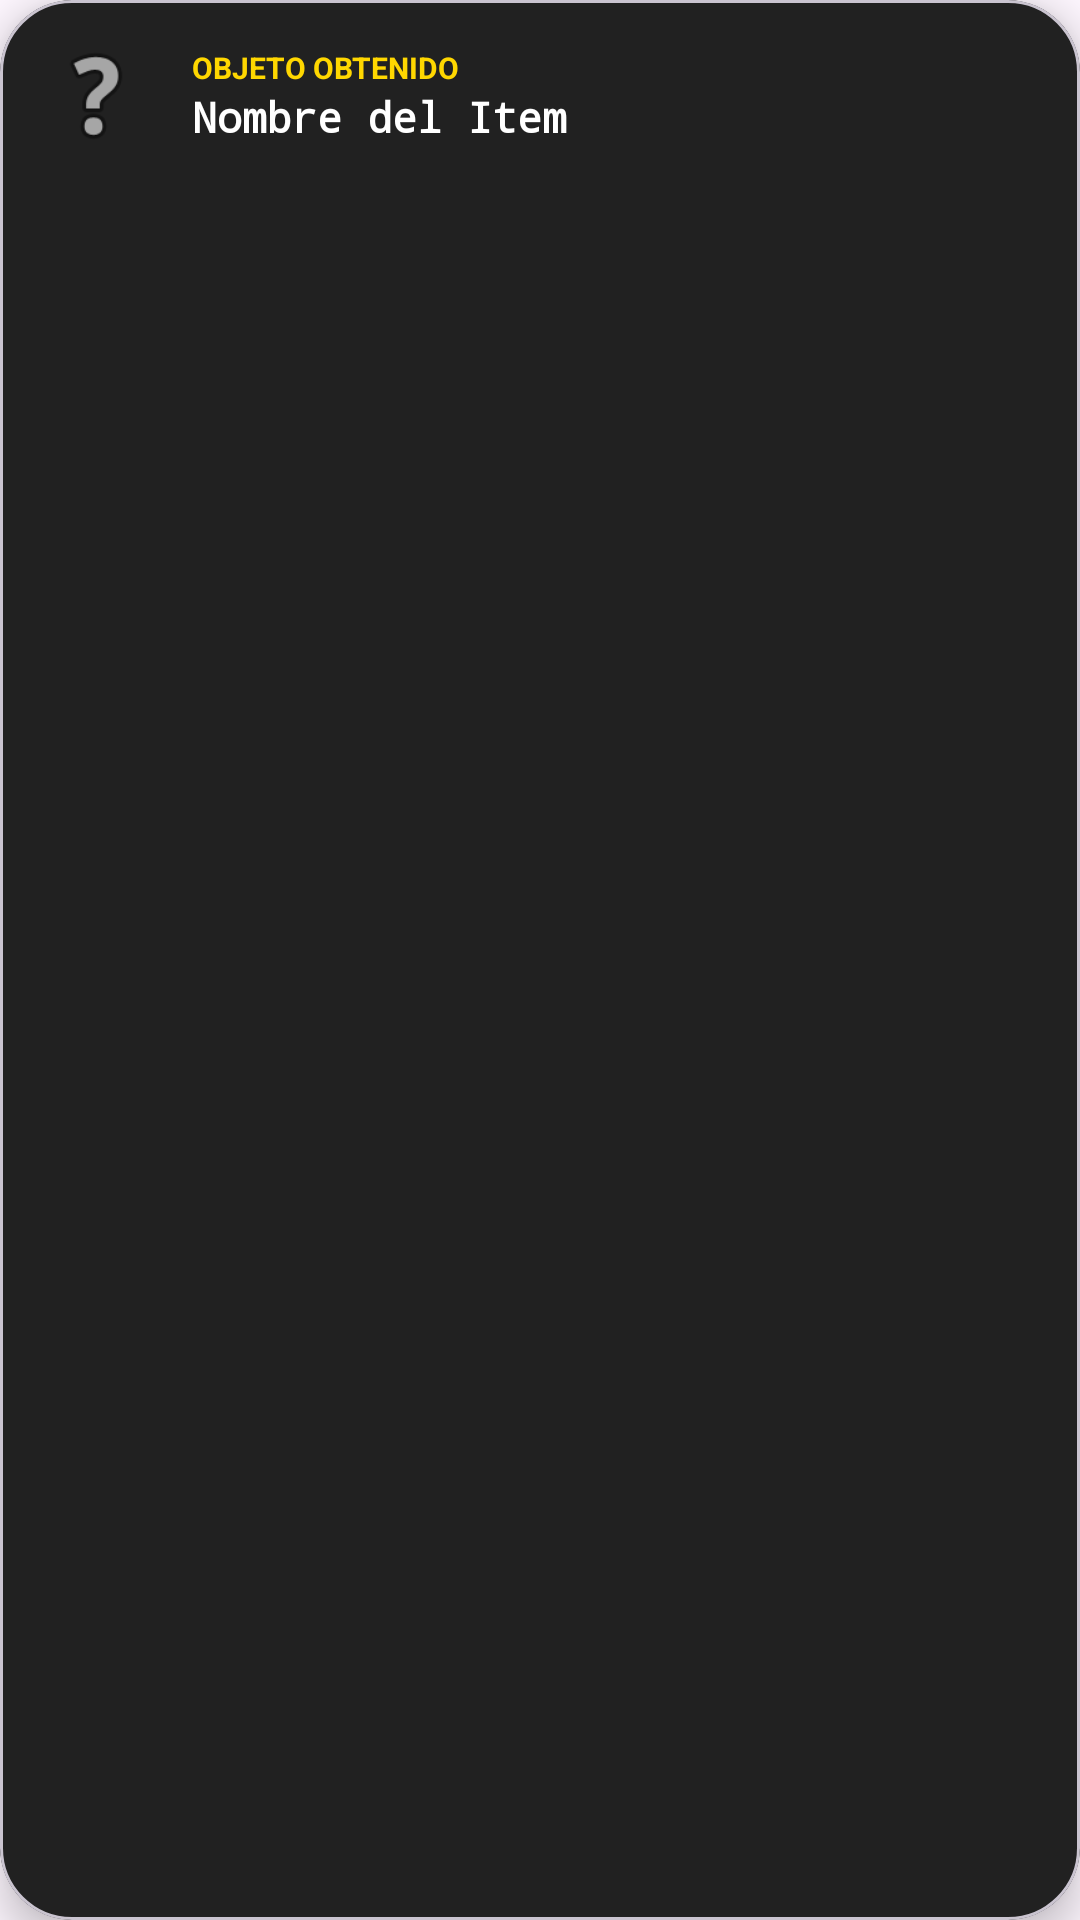

Icons on this 1080px×1920px Android screen, each with its box as (x1, y1, x2, y2):
help: (74, 57, 119, 135)
